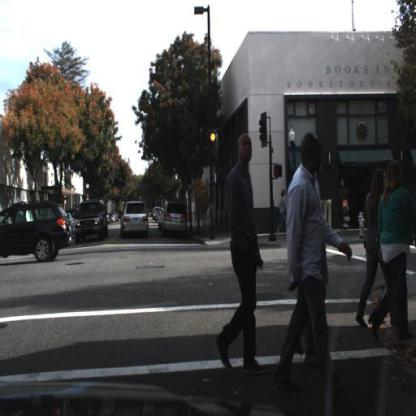car: (1, 201, 73, 263), (75, 195, 111, 244), (79, 200, 108, 243), (160, 200, 191, 238), (121, 201, 150, 241), (162, 200, 187, 237)
pedestrian: (285, 128, 329, 400), (369, 160, 416, 347), (226, 133, 256, 374), (358, 146, 383, 333)
trafficLight-Red: (209, 127, 219, 164)
